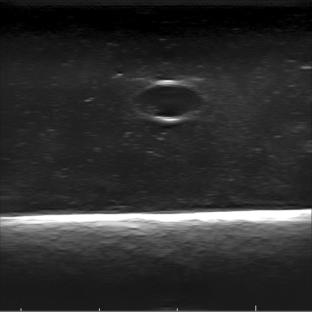vessel: (132, 79, 210, 123)
